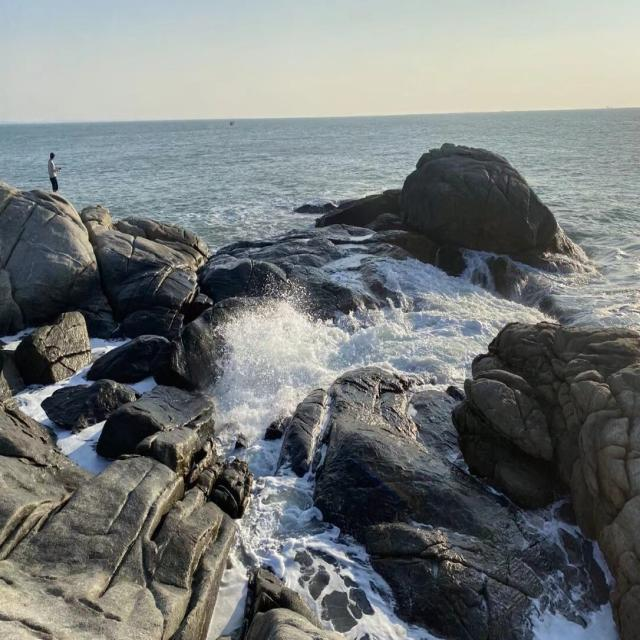reef: (269, 306, 640, 596), (246, 112, 554, 314)
